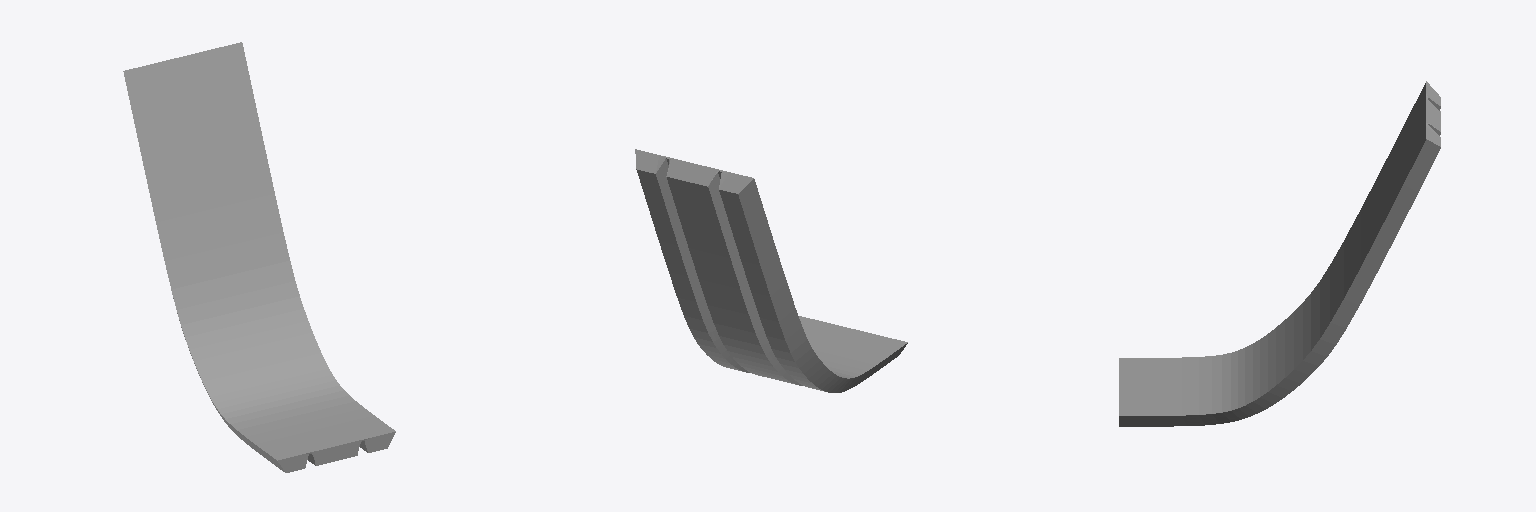
File: SeatBacking.obj
The picture shows the model from 3 angles: view 1: azimuth 30°, elevation 25°; view 2: azimuth 150°, elevation 25°; view 3: azimuth 270°, elevation 25°; orthographic projection.
Parts seen in each view (by area): view 1: SeatBacking_Cube.004; view 2: SeatBacking_Cube.004; view 3: SeatBacking_Cube.004.
Boxes of the visible parts, x1=… form: SeatBacking_Cube.004: x1=123, y1=42, x2=395, y2=472; SeatBacking_Cube.004: x1=635, y1=149, x2=907, y2=392; SeatBacking_Cube.004: x1=1119, y1=81, x2=1440, y2=426.
Size of the model in its own units: 0.2392 by 0.5603 by 0.5619.